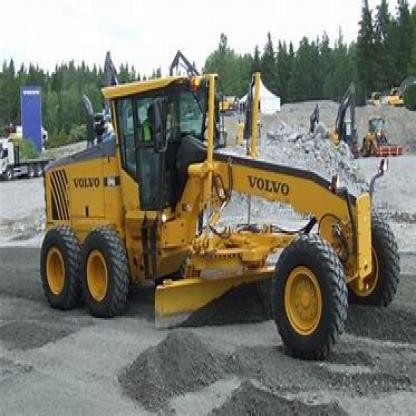bull_dozer/loader/grader: (35, 67, 398, 358)
